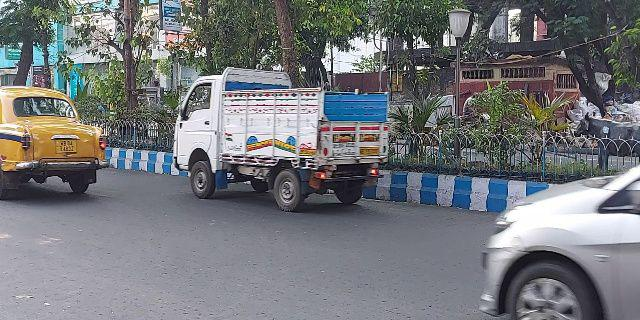Car: (471, 156, 640, 320), (1, 84, 109, 196)
Minitruck: (169, 65, 396, 212)
